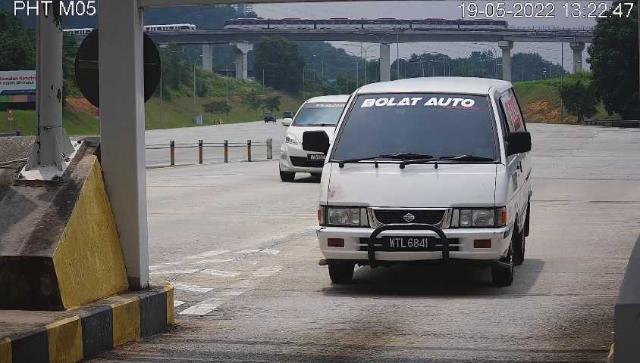License_Plate: (382, 235, 438, 255)
van: (319, 78, 533, 288)
